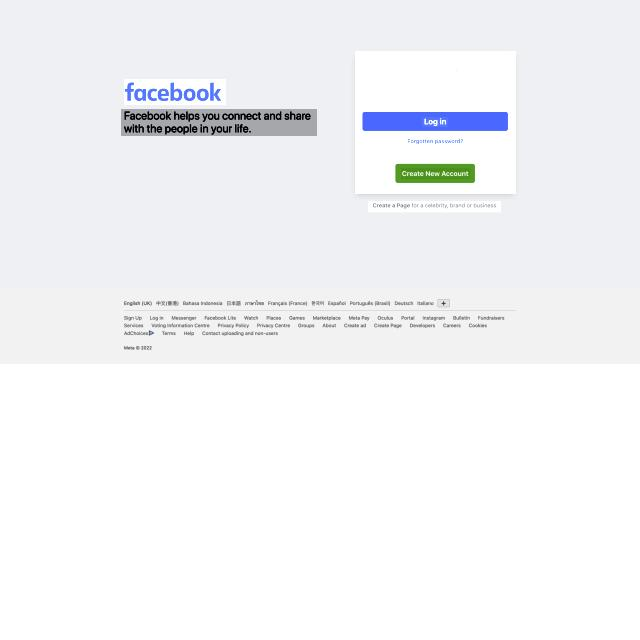CheckBox: (362, 110, 508, 133), (394, 162, 476, 184), (406, 137, 466, 146)
CheckedTextView: (360, 57, 510, 82), (361, 84, 510, 106)
Input field: (121, 109, 317, 136), (368, 202, 501, 214)
Spinner: (355, 51, 516, 194)
accordion: (360, 150, 509, 156)
badge: (0, 288, 640, 364)
data feed: (401, 168, 470, 179), (422, 117, 448, 127)
date picker: (124, 79, 226, 105)
footer: (368, 64, 469, 76), (366, 90, 404, 102)
